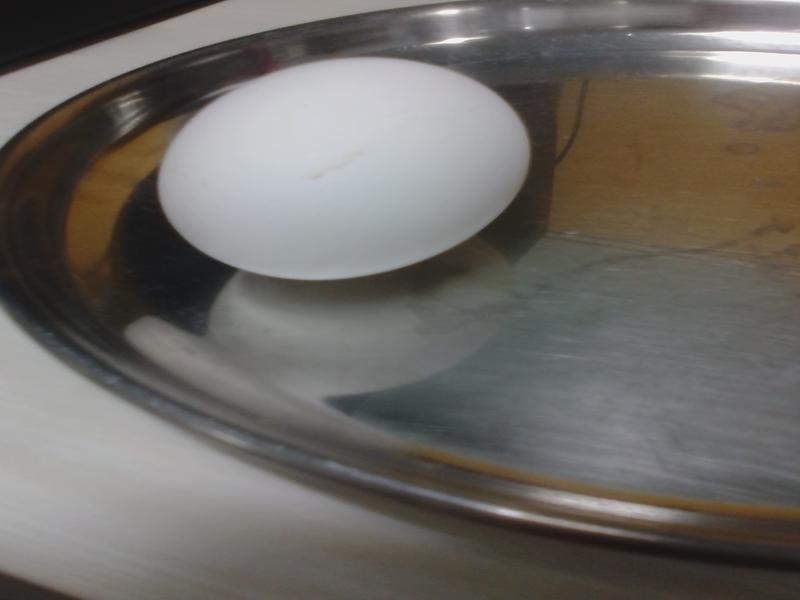egg: (152, 57, 522, 277)
